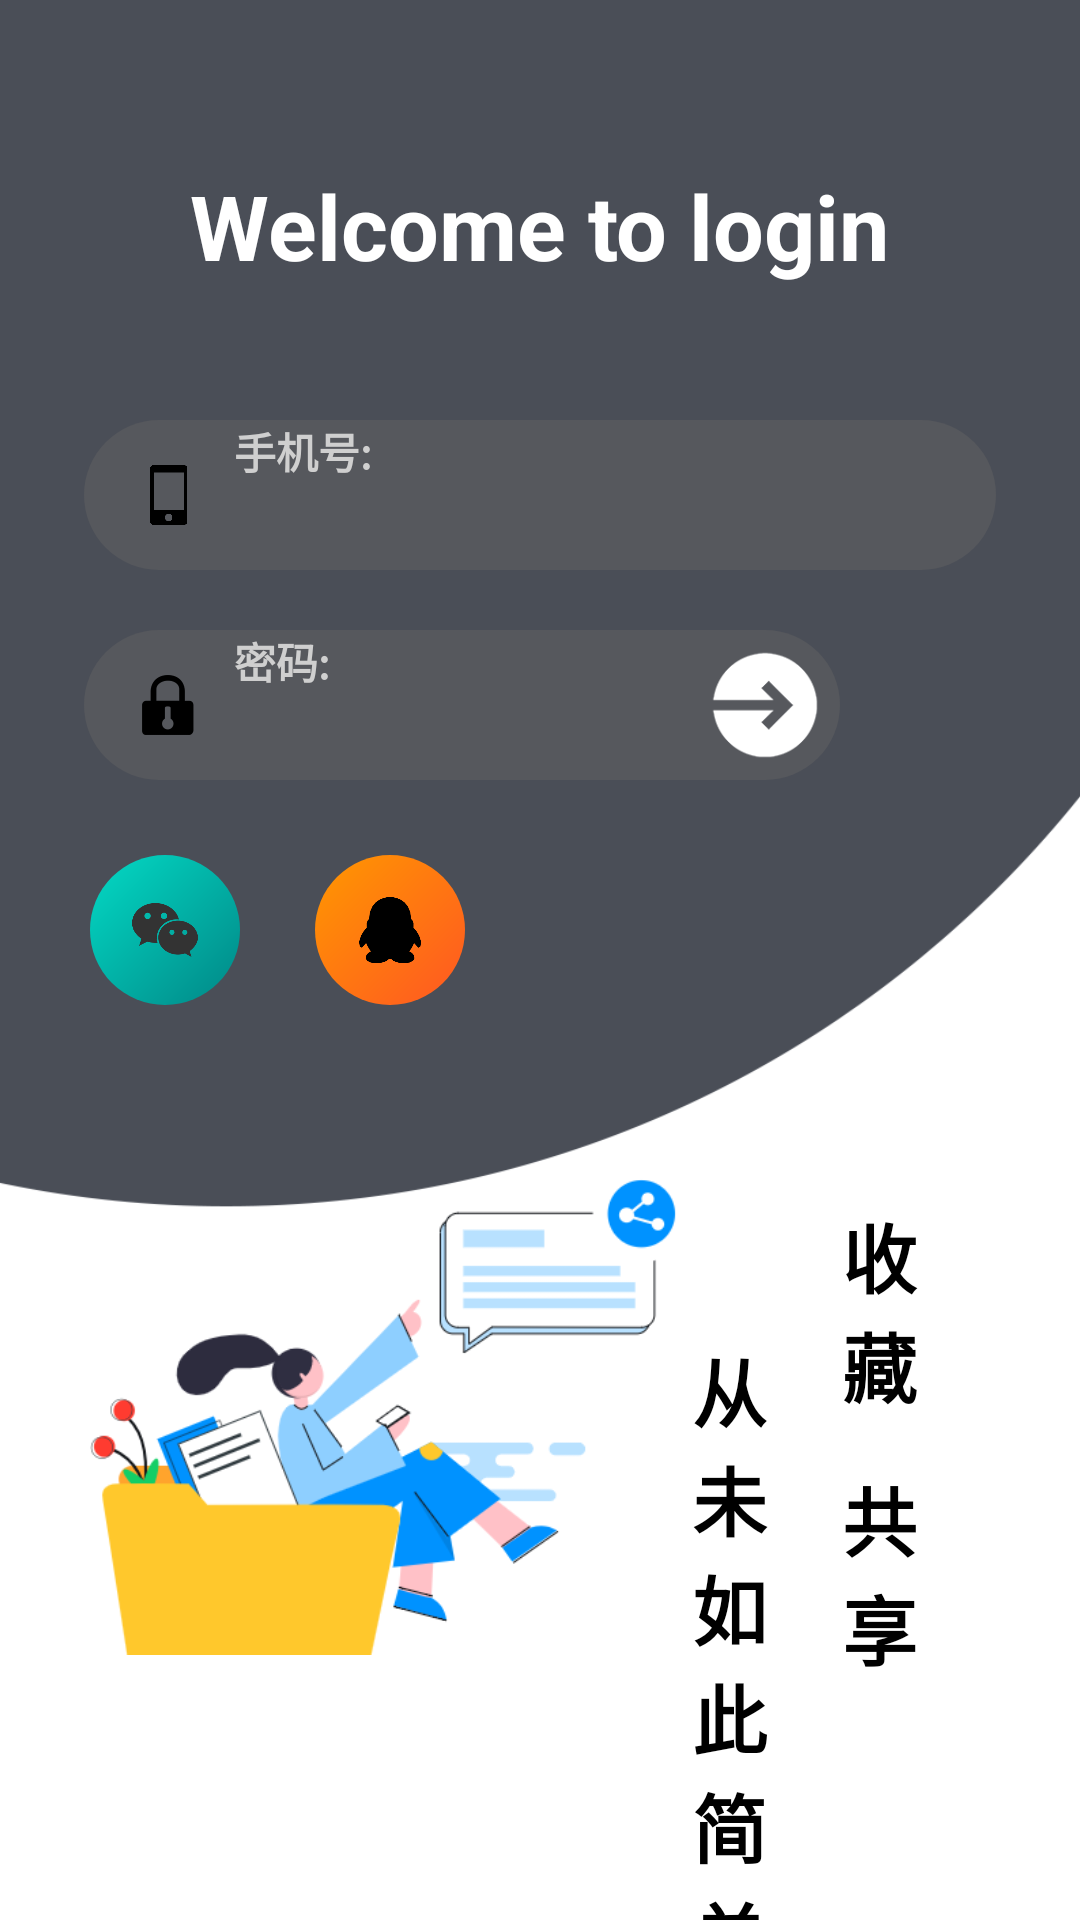

Screen size 1080x1920. Icon name, then its center in pixels as (x=x, y=y):
goto main: (x=765, y=705)
lock: (x=168, y=705)
phone: (x=168, y=495)
